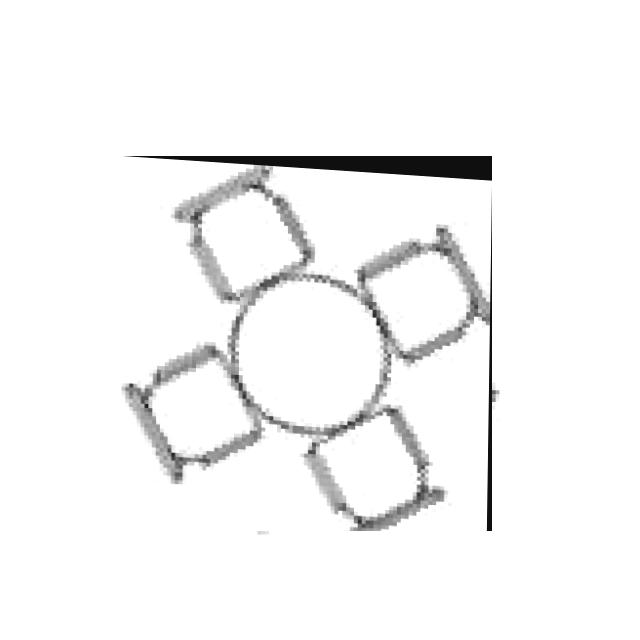table: (121, 156, 492, 531)
